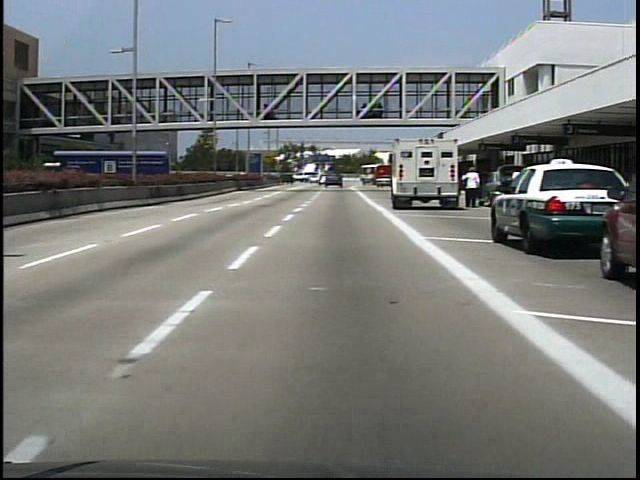person: (462, 167, 481, 211)
